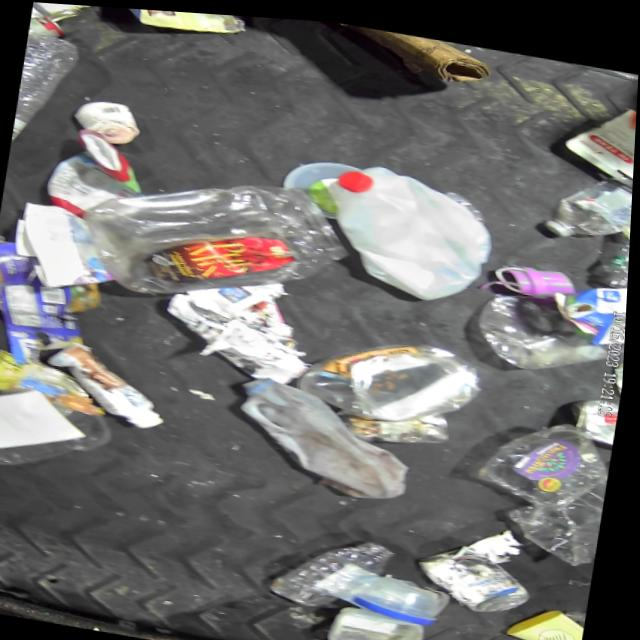can: (413, 529, 542, 613), (566, 385, 623, 437), (26, 12, 68, 51), (29, 2, 84, 24), (28, 2, 49, 30)
milk_jug: (303, 154, 507, 306), (229, 369, 425, 501)
plastic_bottle: (271, 520, 402, 615), (9, 29, 86, 168), (541, 160, 635, 242), (589, 215, 633, 283)
